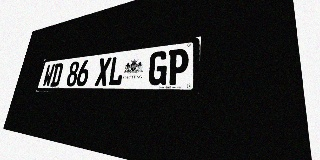6: (75, 59, 91, 86)
8: (65, 61, 81, 86)
D: (50, 63, 64, 87)
G: (147, 50, 169, 85)
L: (107, 55, 126, 86)
P: (166, 48, 189, 85)
W: (42, 64, 55, 87)
X: (94, 57, 112, 86)
